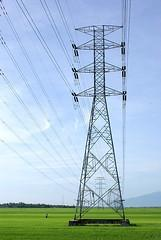power_tower: (70, 19, 132, 226)
